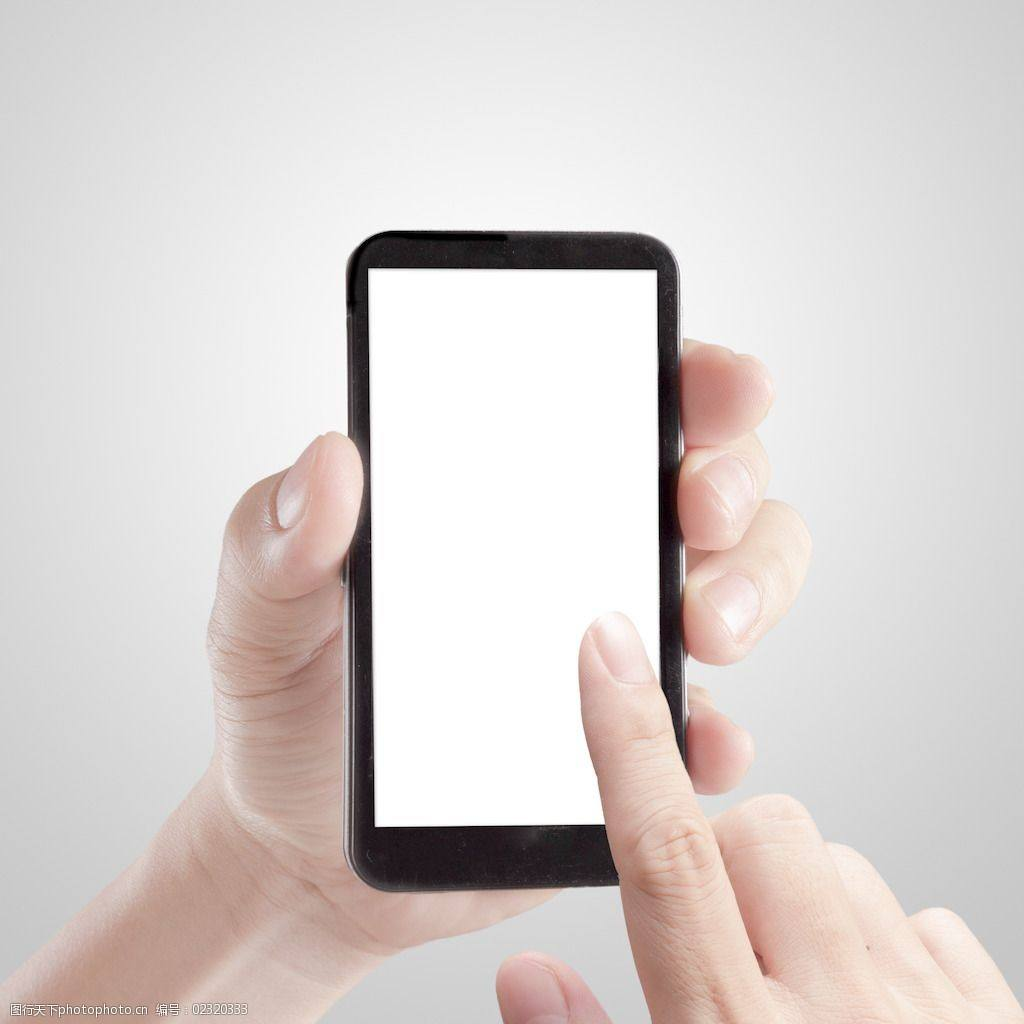phone: (192, 215, 928, 1006)
